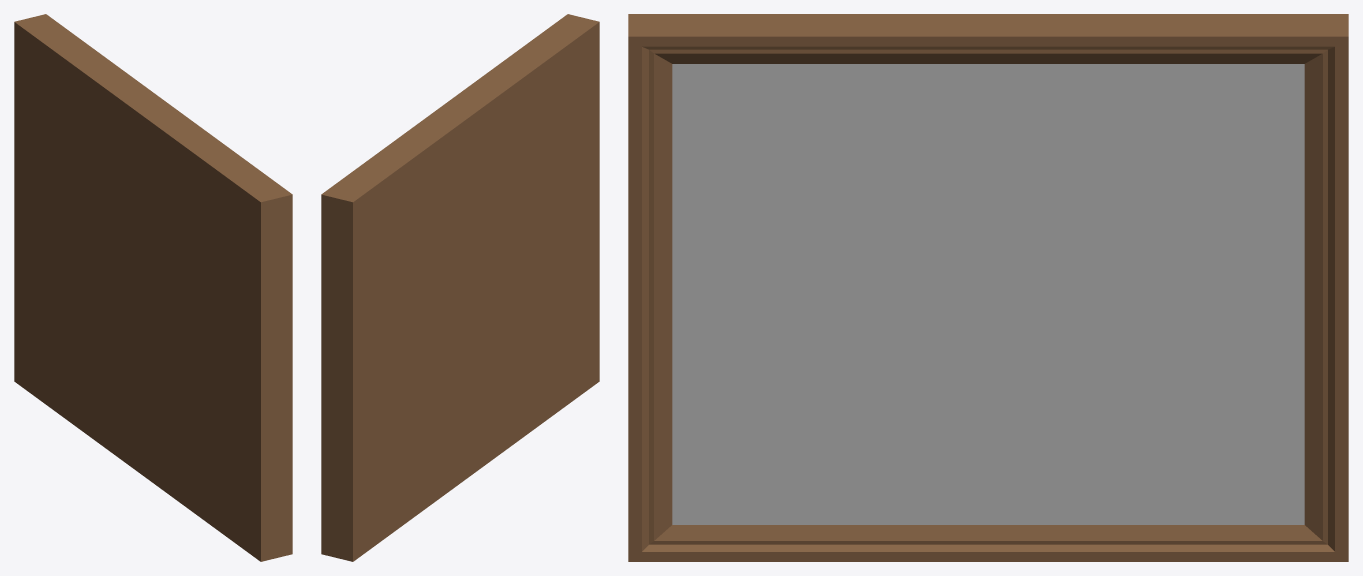
The model's file is cuadro familiar.fbx.
The picture shows the model from 3 angles, left to right: view 1: azimuth 30°, elevation 25°; view 2: azimuth 150°, elevation 25°; view 3: azimuth 270°, elevation 25°; orthographic projection. The views are drawn at different scales.
Visible parts, largest first — view 1: pCube3; view 2: pCube3; view 3: pCube3.
Boxes of the visible parts, bbox=[...] form: pCube3: bbox=[14, 14, 292, 561]; pCube3: bbox=[321, 14, 599, 561]; pCube3: bbox=[628, 14, 1348, 561].
Bounding box in the file's own units: 1.48 × 15.96 × 19.84.
